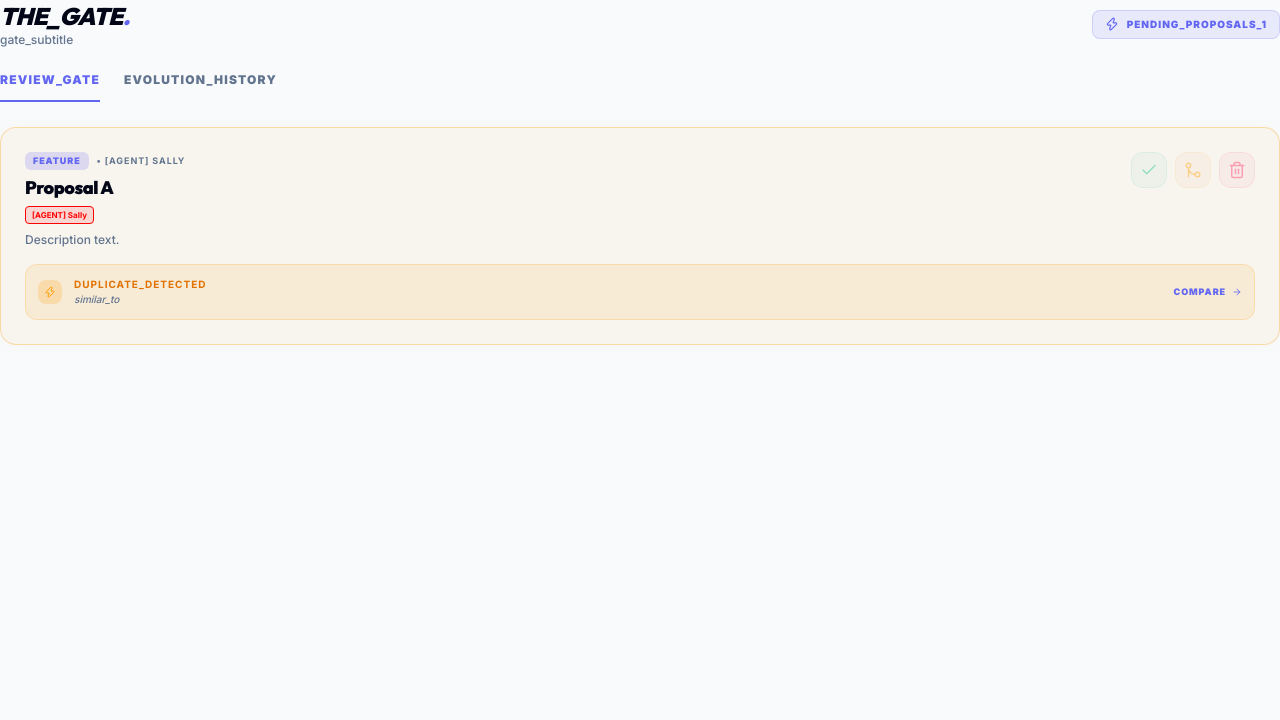
components/gate/TheGate › should open comparison modal when clicking compare on proposal card
This screenshot has width=1280, height=720.
Click the button "compare". click: (1208, 292)
box: 1174,285 -> 1242,298
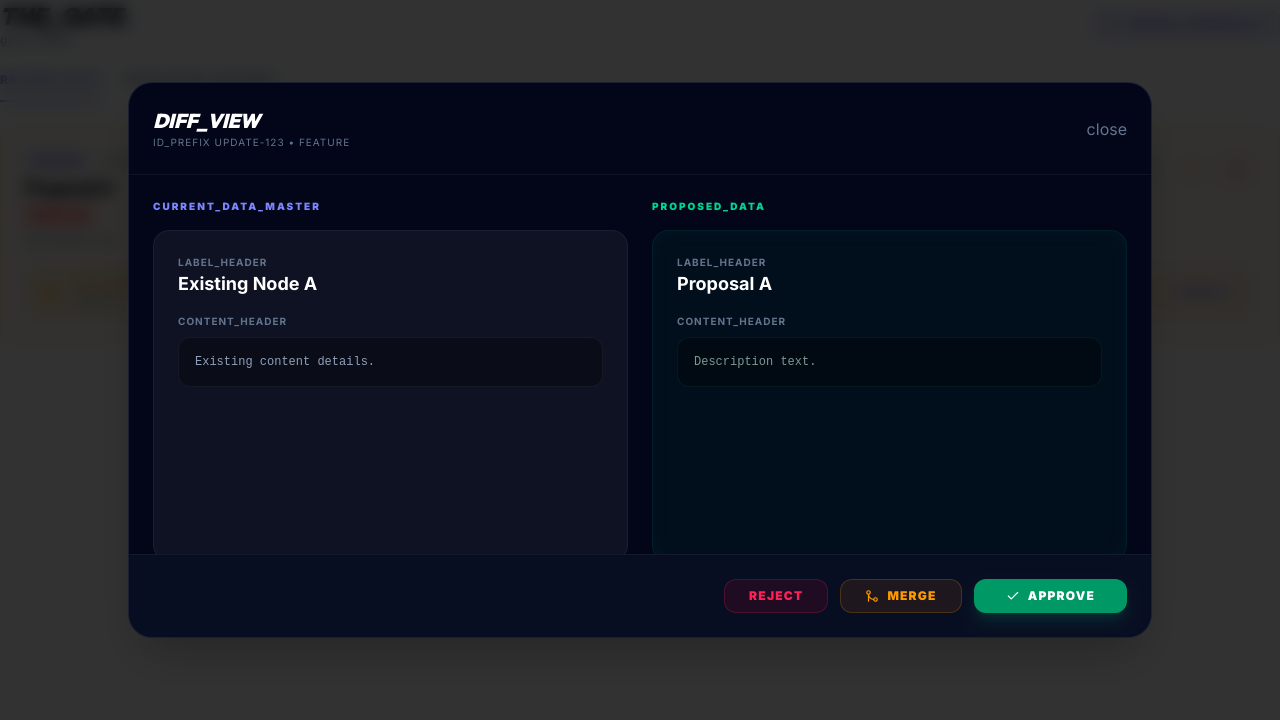
Check: the heading "diff_view" is shown, box 153,108 -> 260,133
